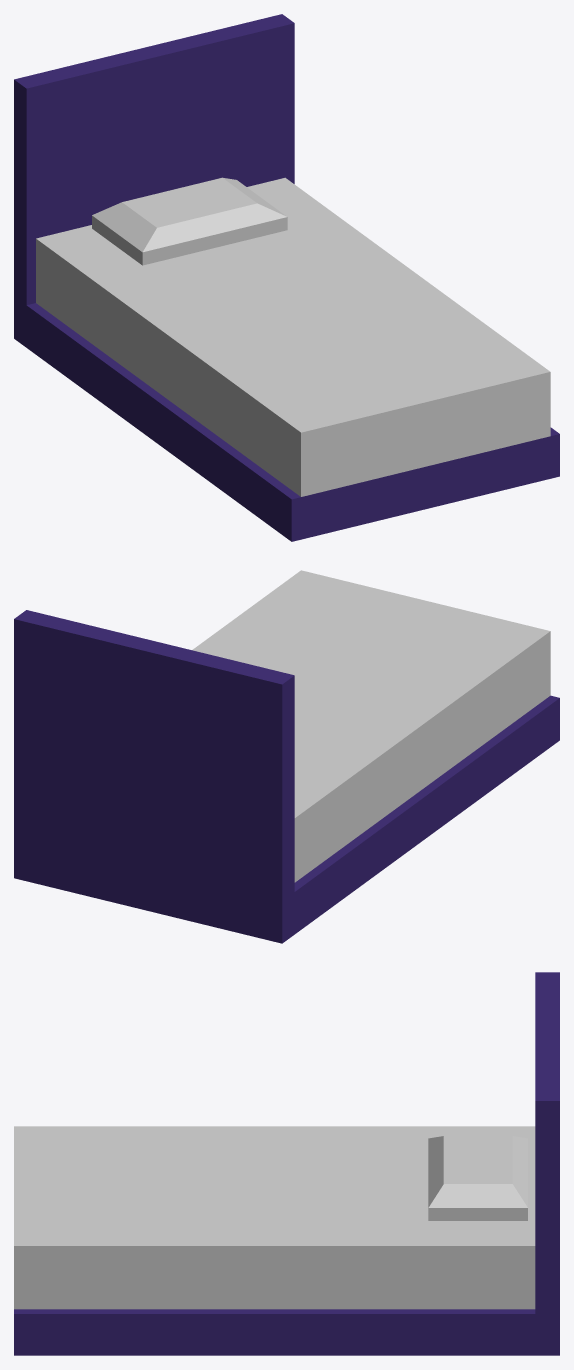
The model's file is Bed7.fbx.
3 views of the same model, one above another, from view 1: azimuth 30°, elevation 25°; view 2: azimuth 150°, elevation 25°; view 3: azimuth 270°, elevation 25° (orthographic).
Parts seen in each view (by area): view 1: Cube; view 2: Cube; view 3: Cube.
Boxes of the visible parts, bbox=[...] form: Cube: bbox=[14, 14, 559, 541]; Cube: bbox=[14, 570, 559, 943]; Cube: bbox=[14, 972, 559, 1355].
Size of the model in its own units: 1.8 by 1.66 by 3.23.
